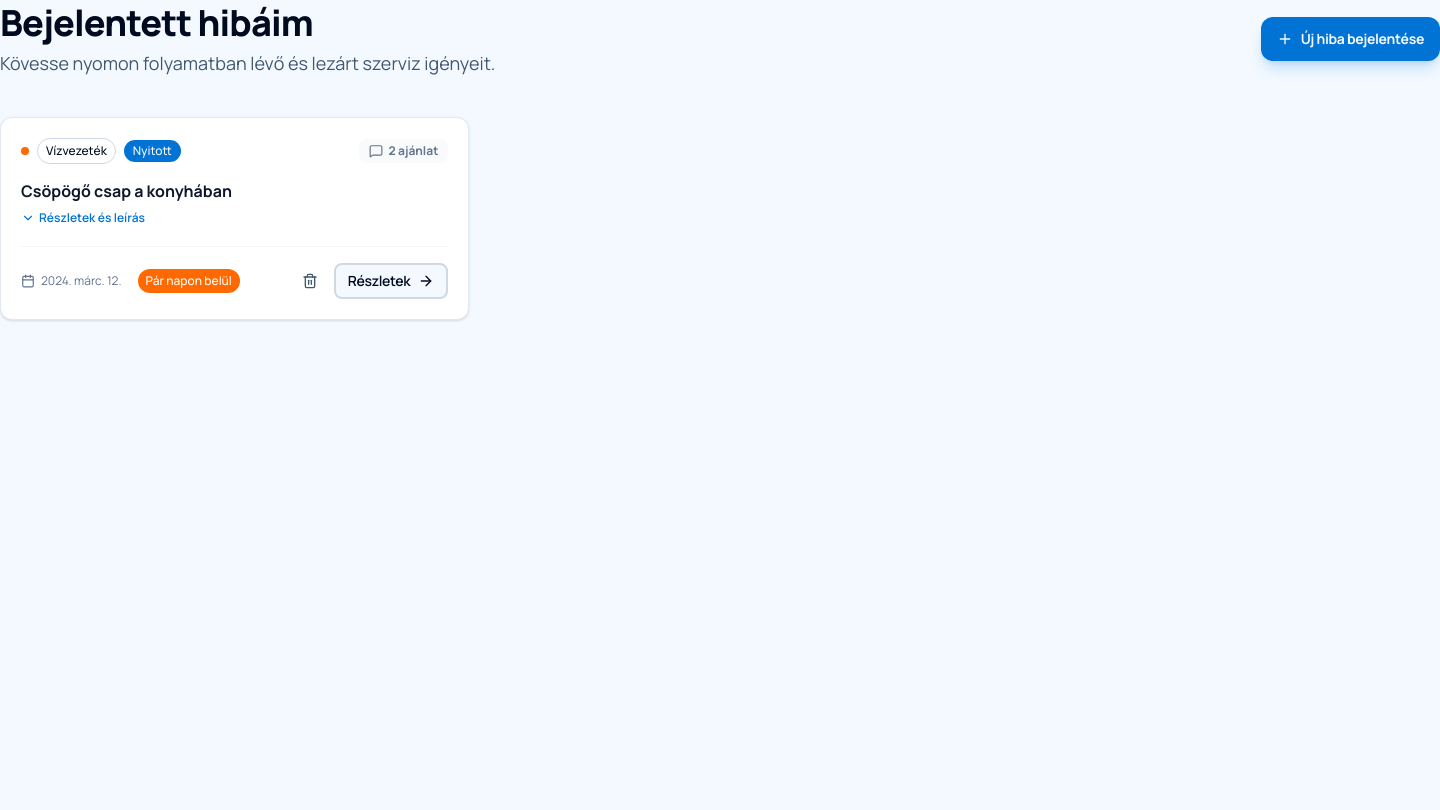
MyReports page – delete flow › opens confirmation dialog on delete button click
Click the button named "Törlés" at (310, 281), box [294,265,326,297]
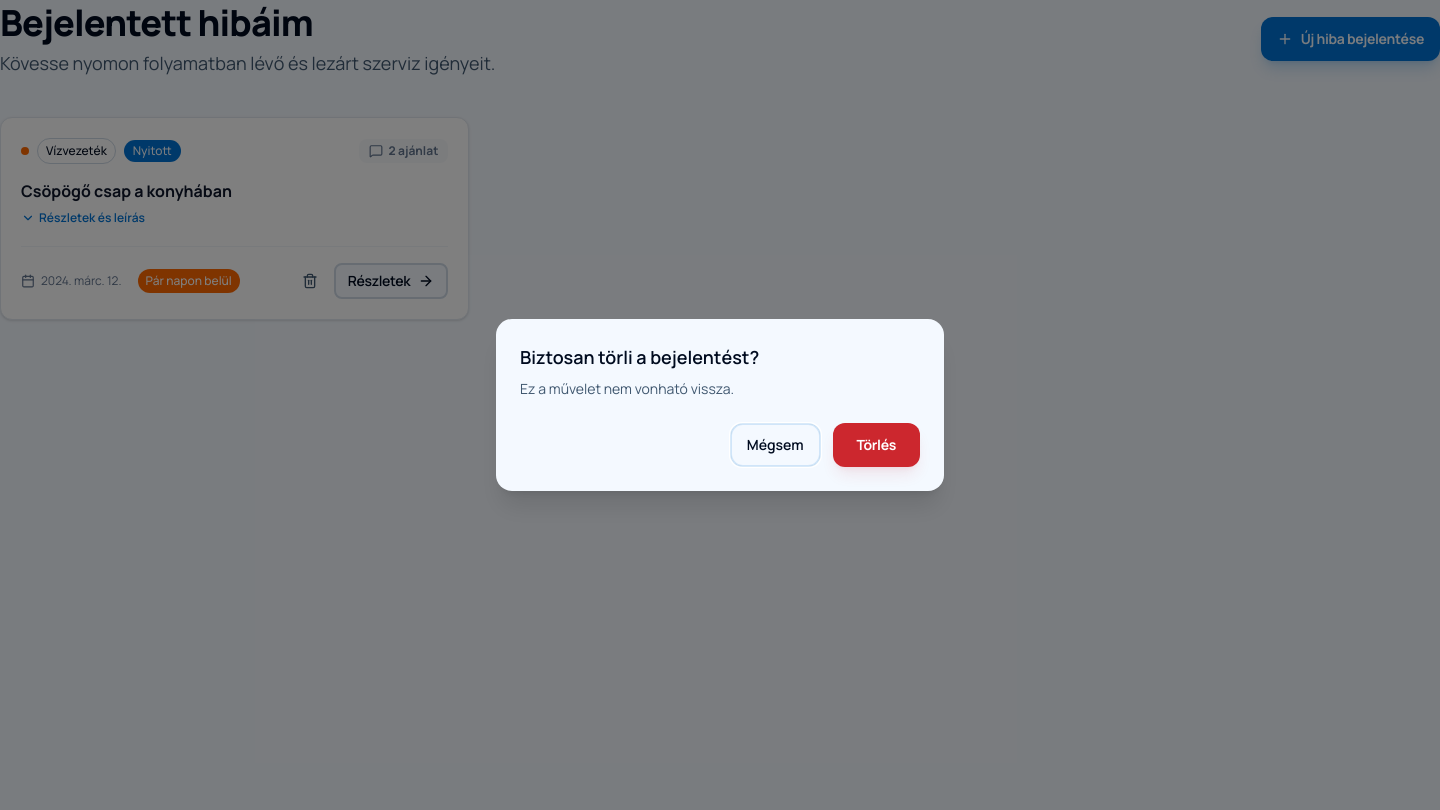
Now the heading "Biztosan törli a bejelentést?" is shown, box [520,345,759,369]
